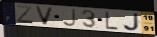3: (81, 9, 97, 29)
J: (122, 13, 141, 32), (61, 8, 77, 28)
L: (104, 11, 119, 31)
V: (35, 6, 56, 26)
Z: (15, 5, 35, 25)
